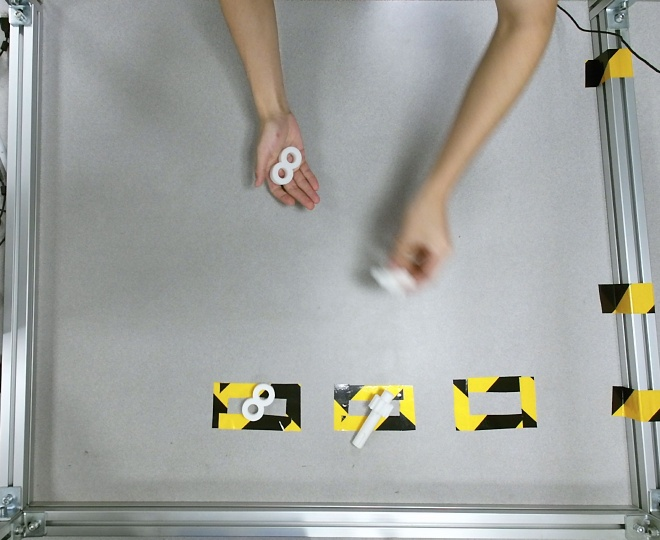stage_1: (269, 146, 301, 184)
